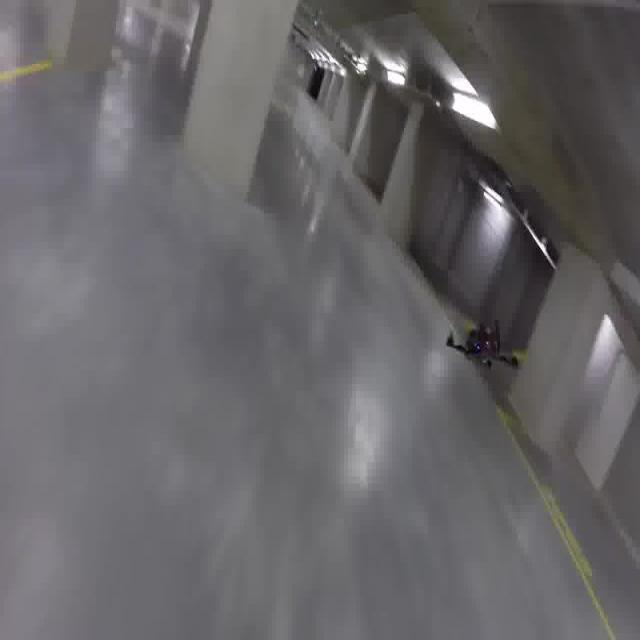drone: (445, 315, 520, 374)
